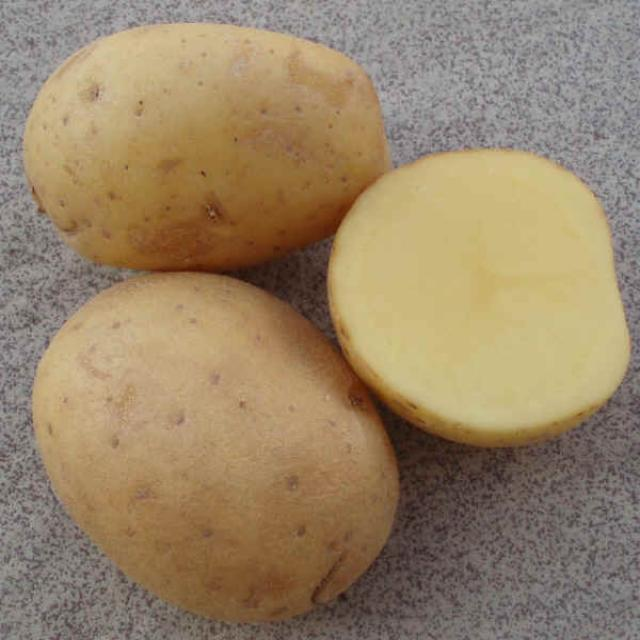Potato: (14, 252, 447, 618), (32, 2, 415, 291), (321, 139, 628, 480)
